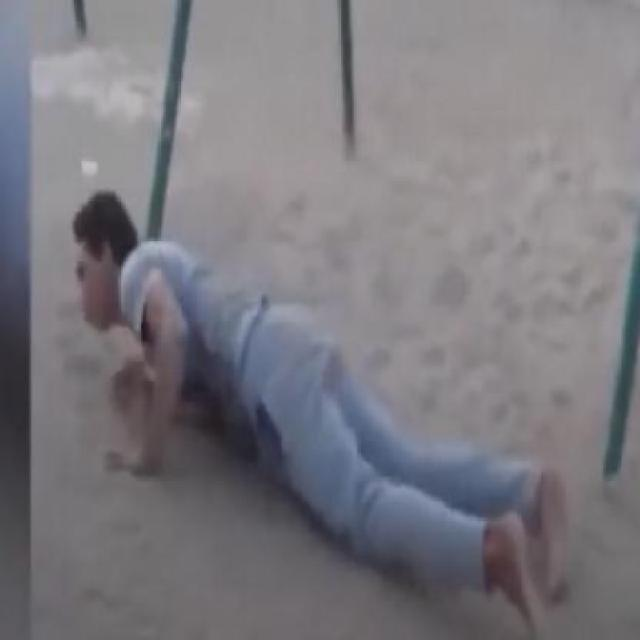fall: (74, 185, 577, 638)
